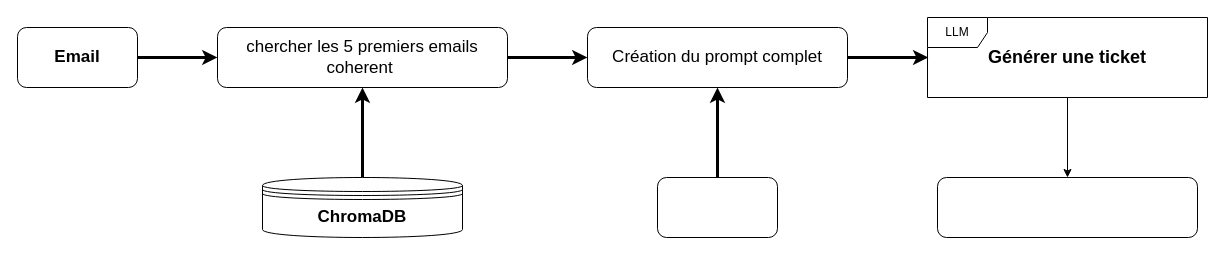
Image size: 1225x255. Some labels were removed from this diagram. Each missing label, with the centre of its shape:
envoyer un email du génération du ticket: point (1067, 207)
Prompt.py: point (717, 207)
